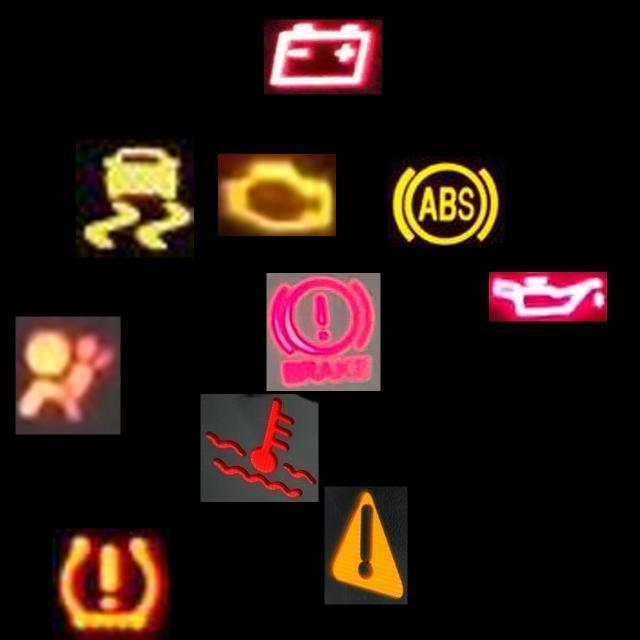Central Warning lamp: (324, 486, 408, 604)
Engine cooling system: (200, 394, 318, 502)
